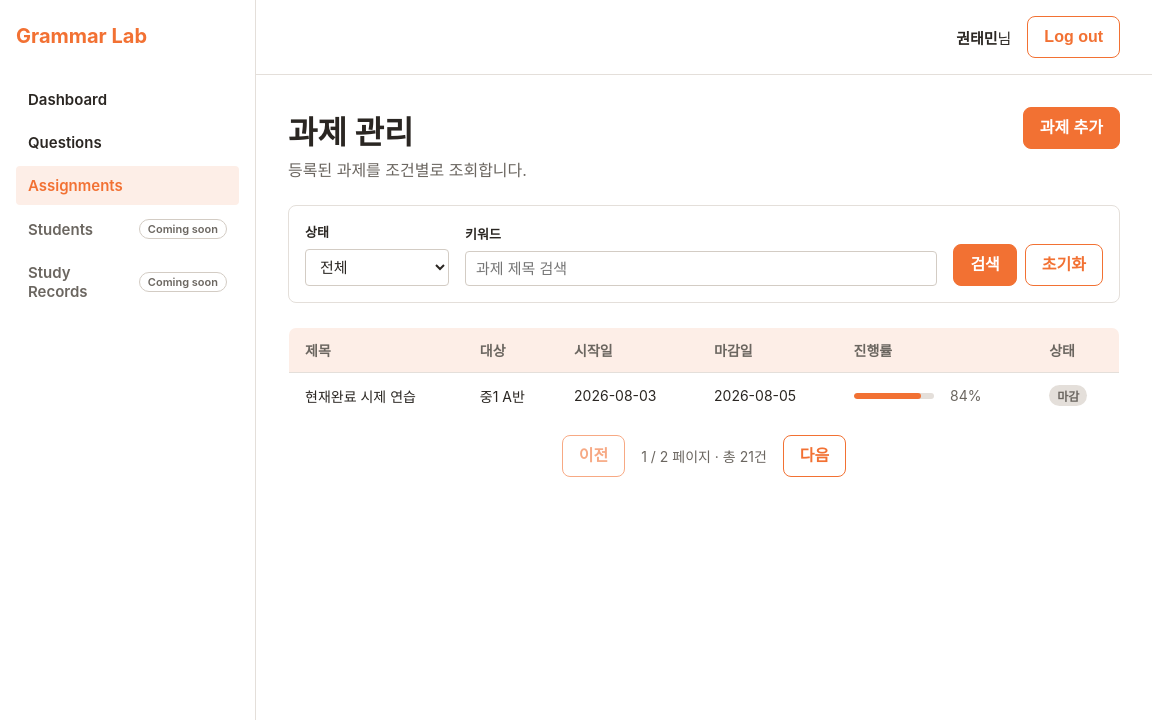
AssignmentListPage › paginates using backend page metadata, disabling controls at the bounds
Check: the link "현재완료 시제 연습" is shown, box 305,388 -> 416,404
Check: the button "이전" is disabled, box 562,435 -> 625,477
Click the button "다음" at (815, 456), box 783,435 -> 846,477
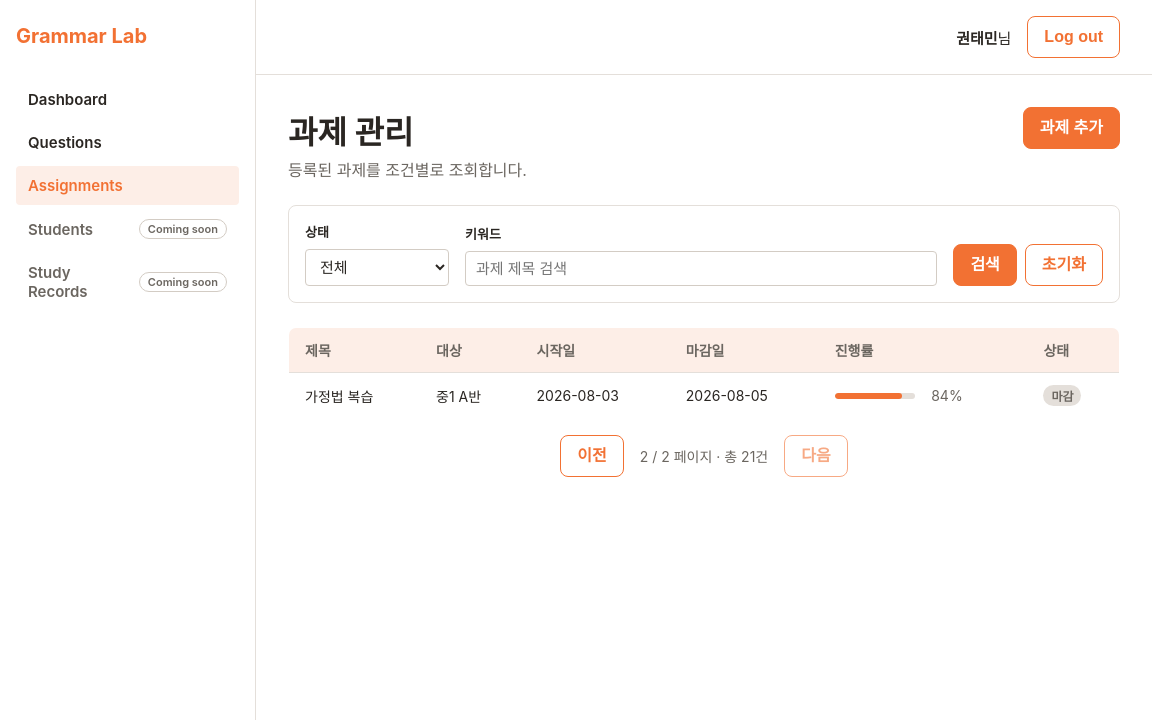
Check: the link "가정법 복습" is shown, box 305,388 -> 373,404
Check: the button "이전" is enabled, box 560,435 -> 624,477
Check: the button "다음" is disabled, box 784,435 -> 848,477
